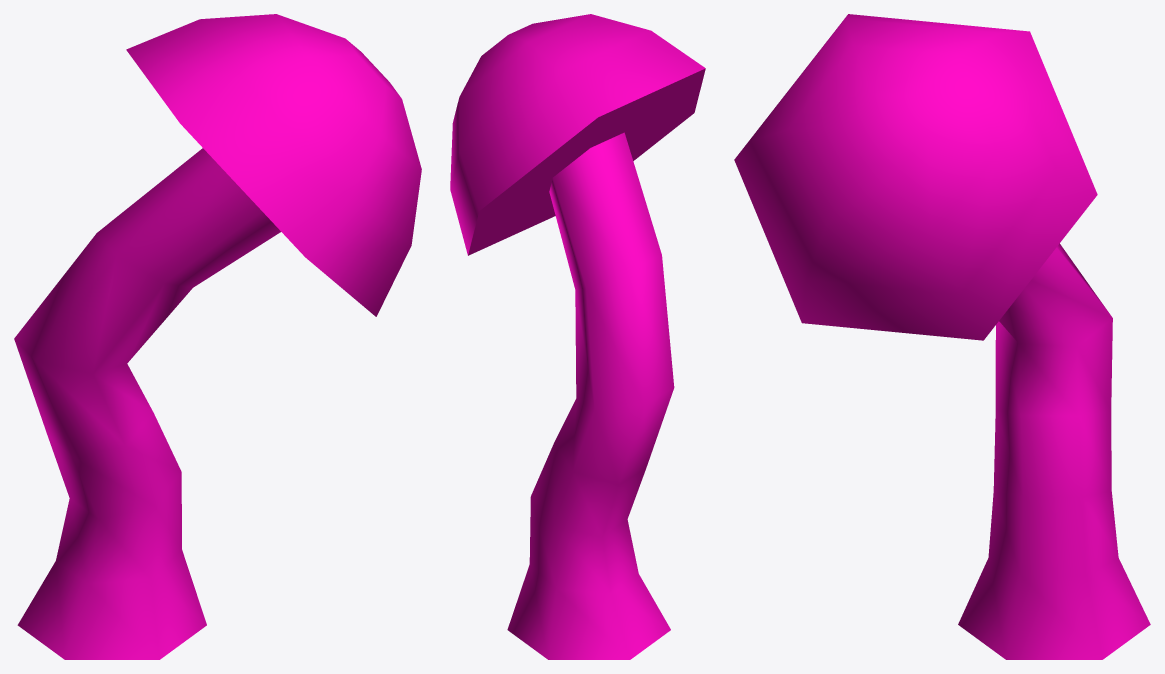
File: MushroomSmall.fbx
3 views of the same model, side by side, from view 1: azimuth 30°, elevation 25°; view 2: azimuth 150°, elevation 25°; view 3: azimuth 270°, elevation 25° (orthographic). The views are drawn at different scales.
Visible parts, largest first — view 1: MushroomSmall; view 2: MushroomSmall; view 3: MushroomSmall.
Boxes of the visible parts, x1,y1,x2,y2 form: MushroomSmall: (14, 14, 421, 659); MushroomSmall: (450, 14, 705, 659); MushroomSmall: (734, 14, 1150, 659).
Bounding box in the file's own units: 20.82 × 40.21 × 24.19.
